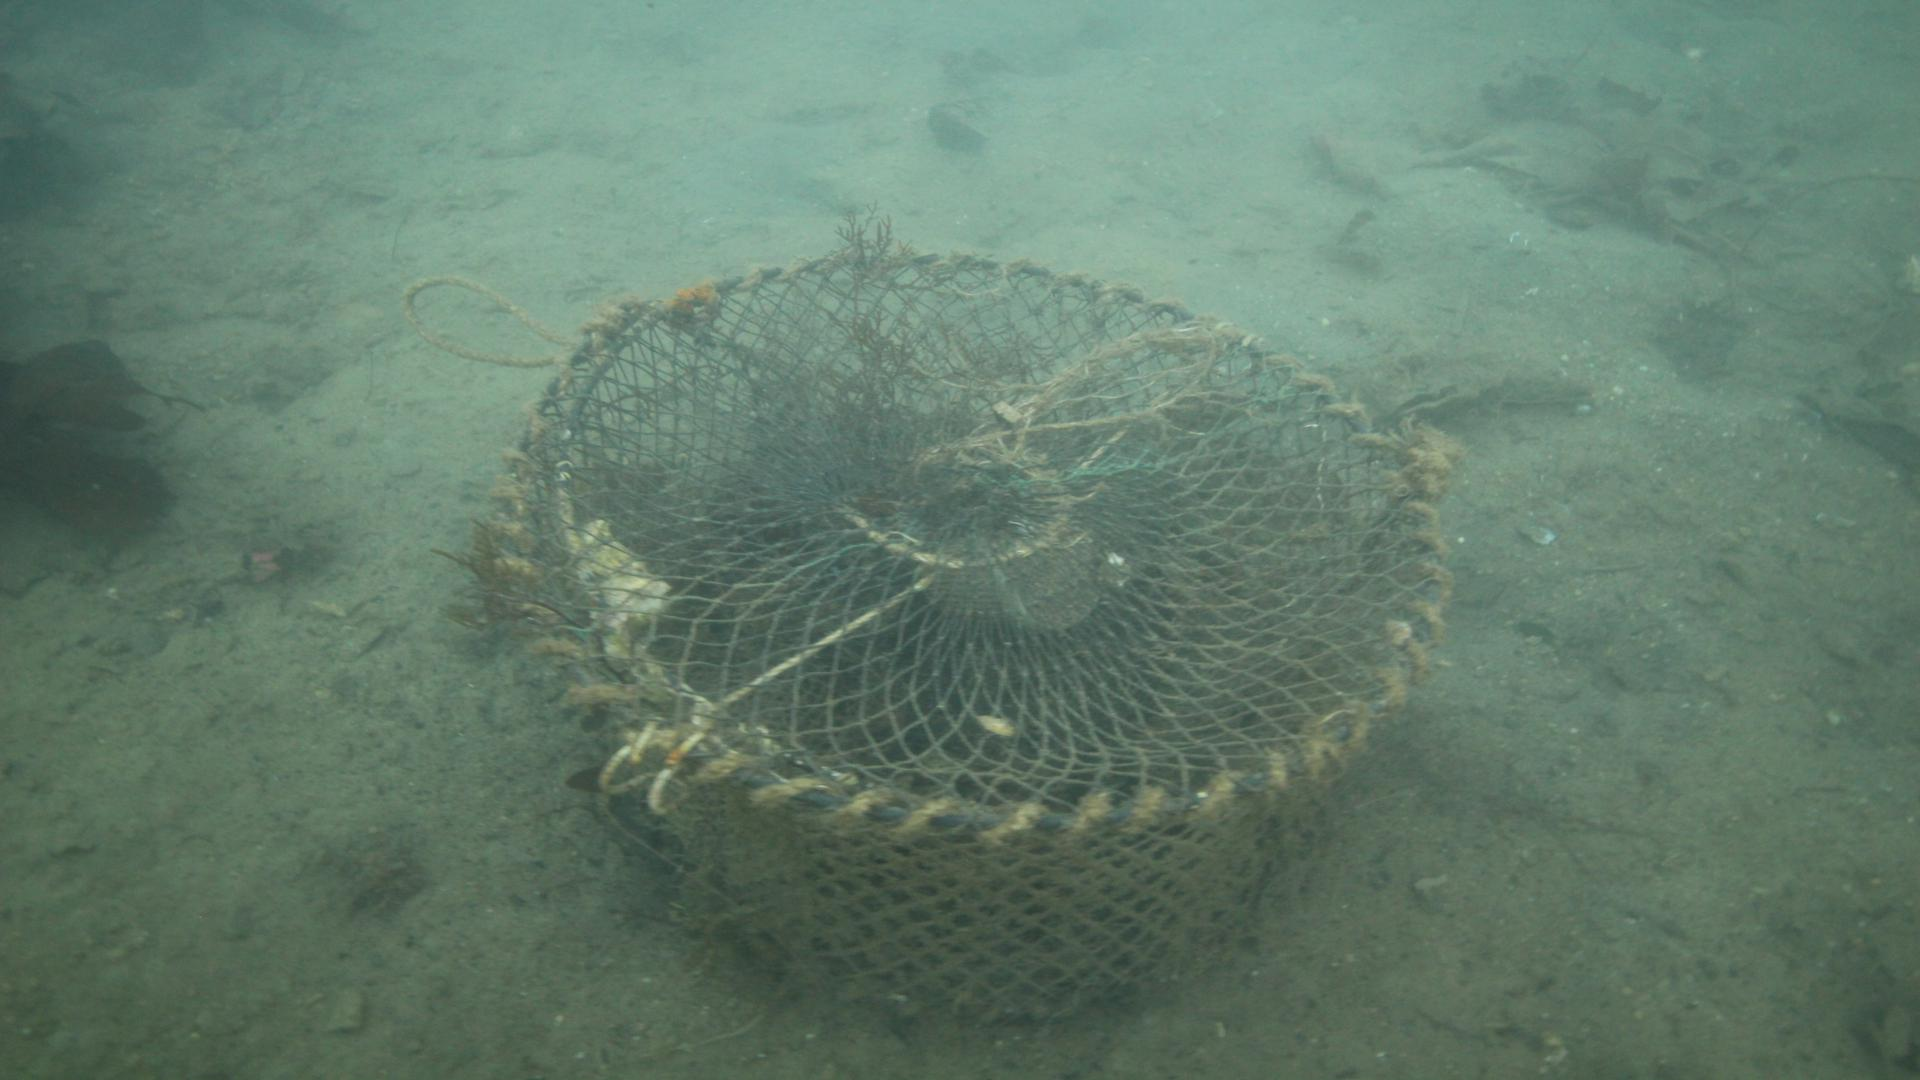circular fish trap: (485, 249, 1455, 1025)
rope: (398, 270, 575, 367)
